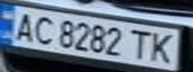2: (103, 24, 127, 57), (72, 19, 93, 53)
8: (54, 17, 78, 50), (87, 21, 109, 55)
A: (6, 9, 39, 43)
C: (27, 13, 57, 46)
K: (145, 29, 181, 64)
T: (127, 27, 154, 61)
